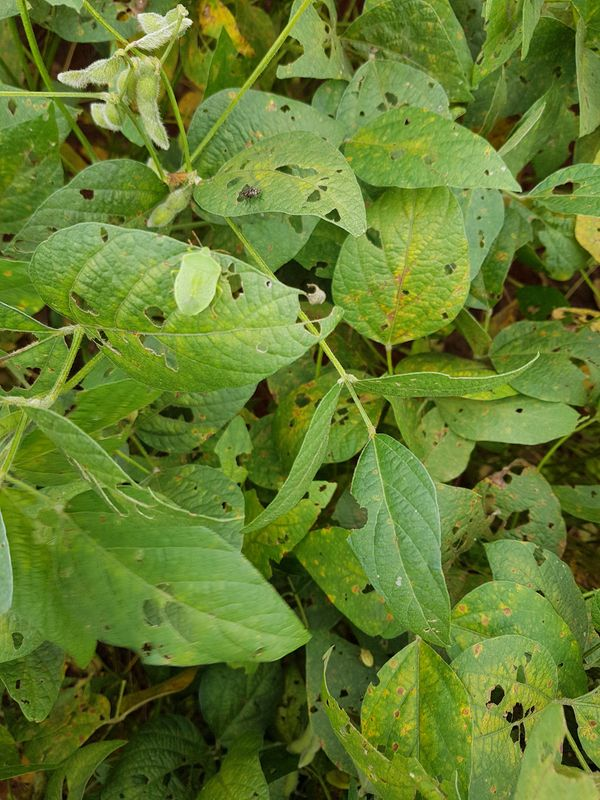Euschistus_heros_adulto: (160, 166, 198, 195)
Euschistus_heros_ninfa: (354, 642, 381, 672)
Nezara_viridula_adulto: (163, 228, 235, 324)
